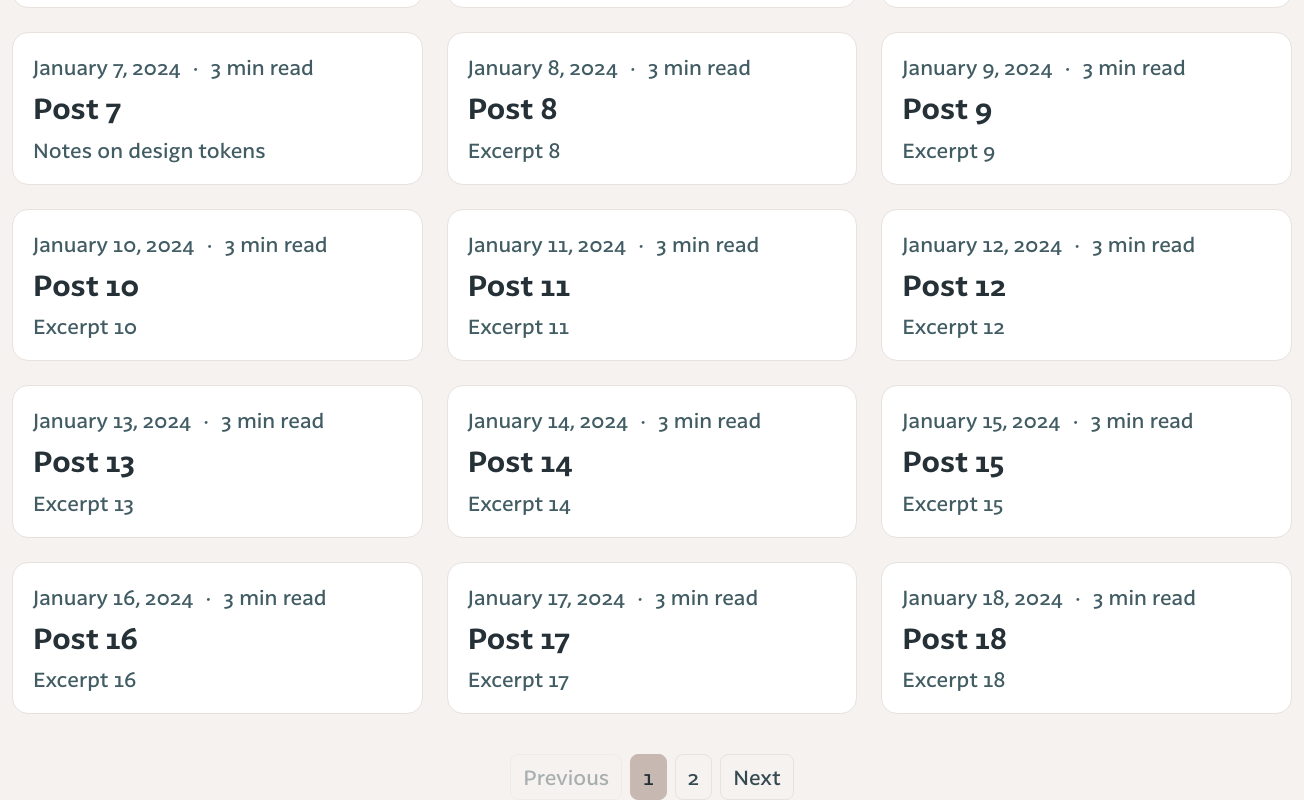
Test case: PostsListClient › searches titles and excerpts case-insensitively and resets the page
The image size is (1304, 800).
(page scrolled)
Click the button "2" at (693, 777), box [675,754,712,799]
(page scrolled)
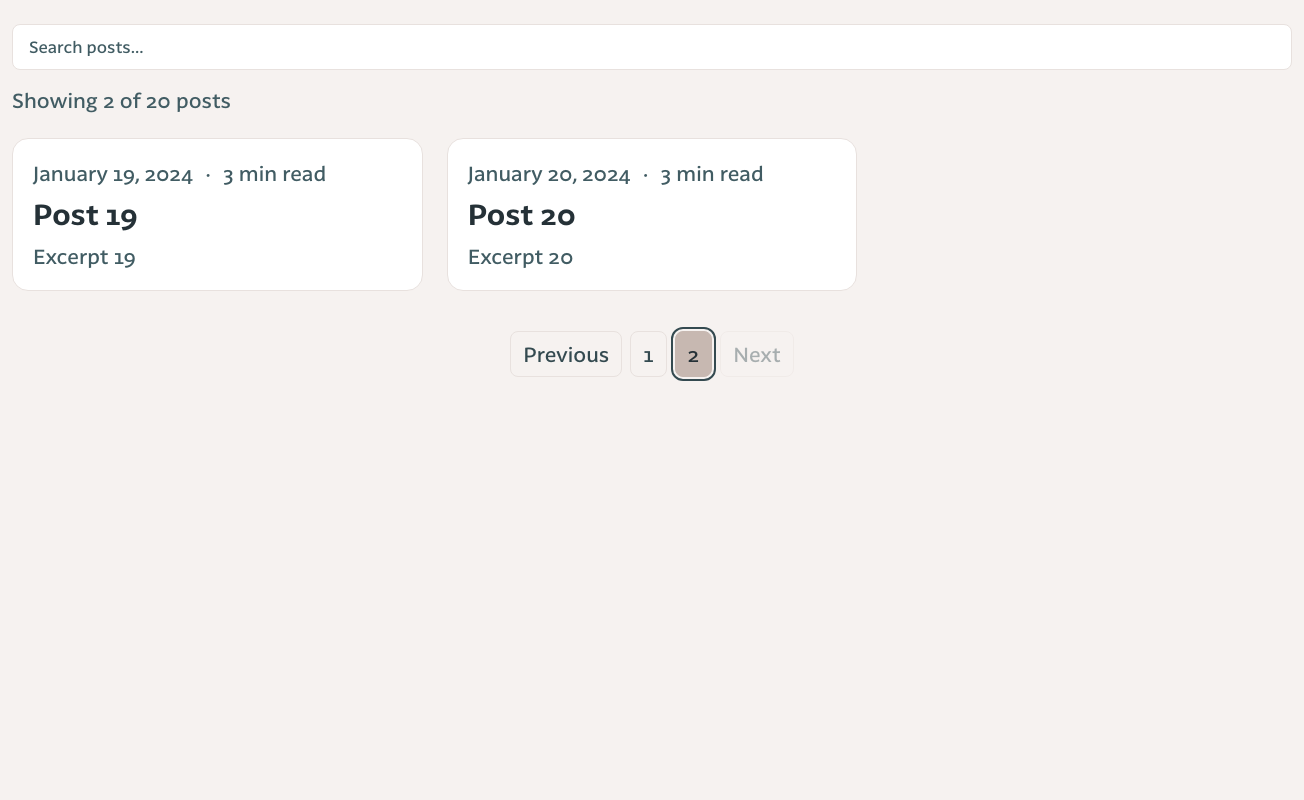
Type "DESIGN" into the field with placeholder "Search posts..." at (652, 47), box [12,24,1292,70]
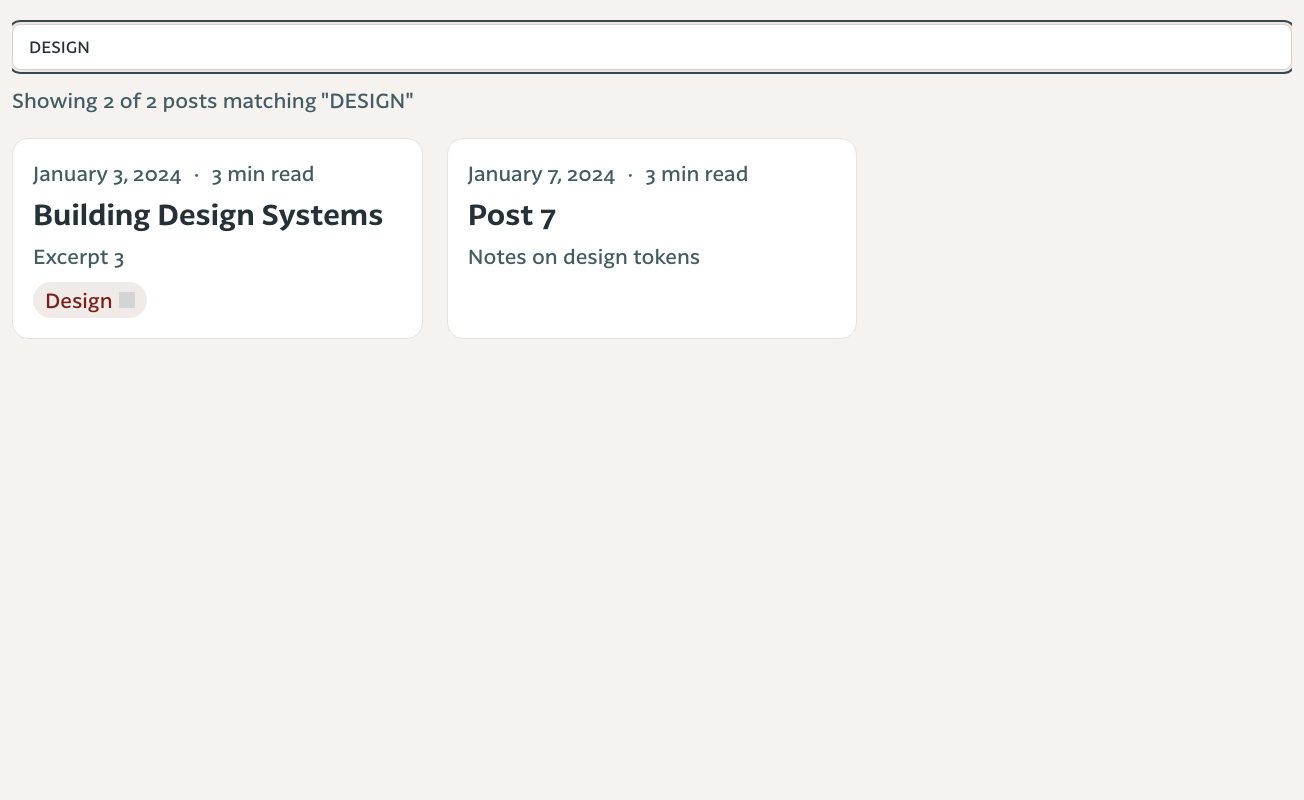
Check: the text "Showing 2 of 2 posts matching \"DESIGN\"" is shown, box [12,88,414,112]
